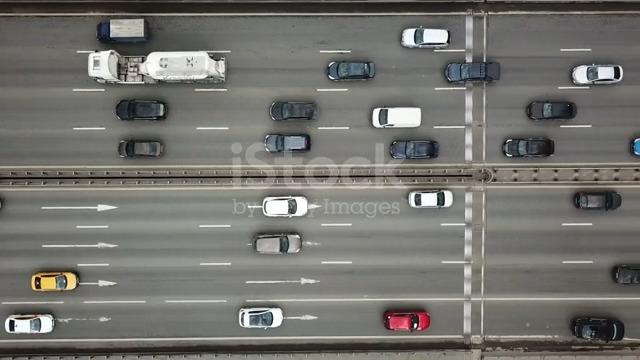Cars: (572, 316, 625, 343), (445, 61, 501, 84), (571, 64, 624, 86), (372, 106, 422, 129), (116, 99, 167, 121), (401, 27, 451, 49), (5, 313, 55, 335), (503, 137, 555, 158), (327, 60, 376, 82), (262, 196, 309, 218), (31, 271, 80, 292), (383, 311, 431, 332), (390, 140, 440, 160), (527, 101, 577, 121), (264, 133, 311, 154), (574, 191, 622, 211), (270, 101, 317, 121), (408, 190, 454, 209), (118, 140, 164, 159), (613, 265, 640, 285), (631, 138, 640, 157)
